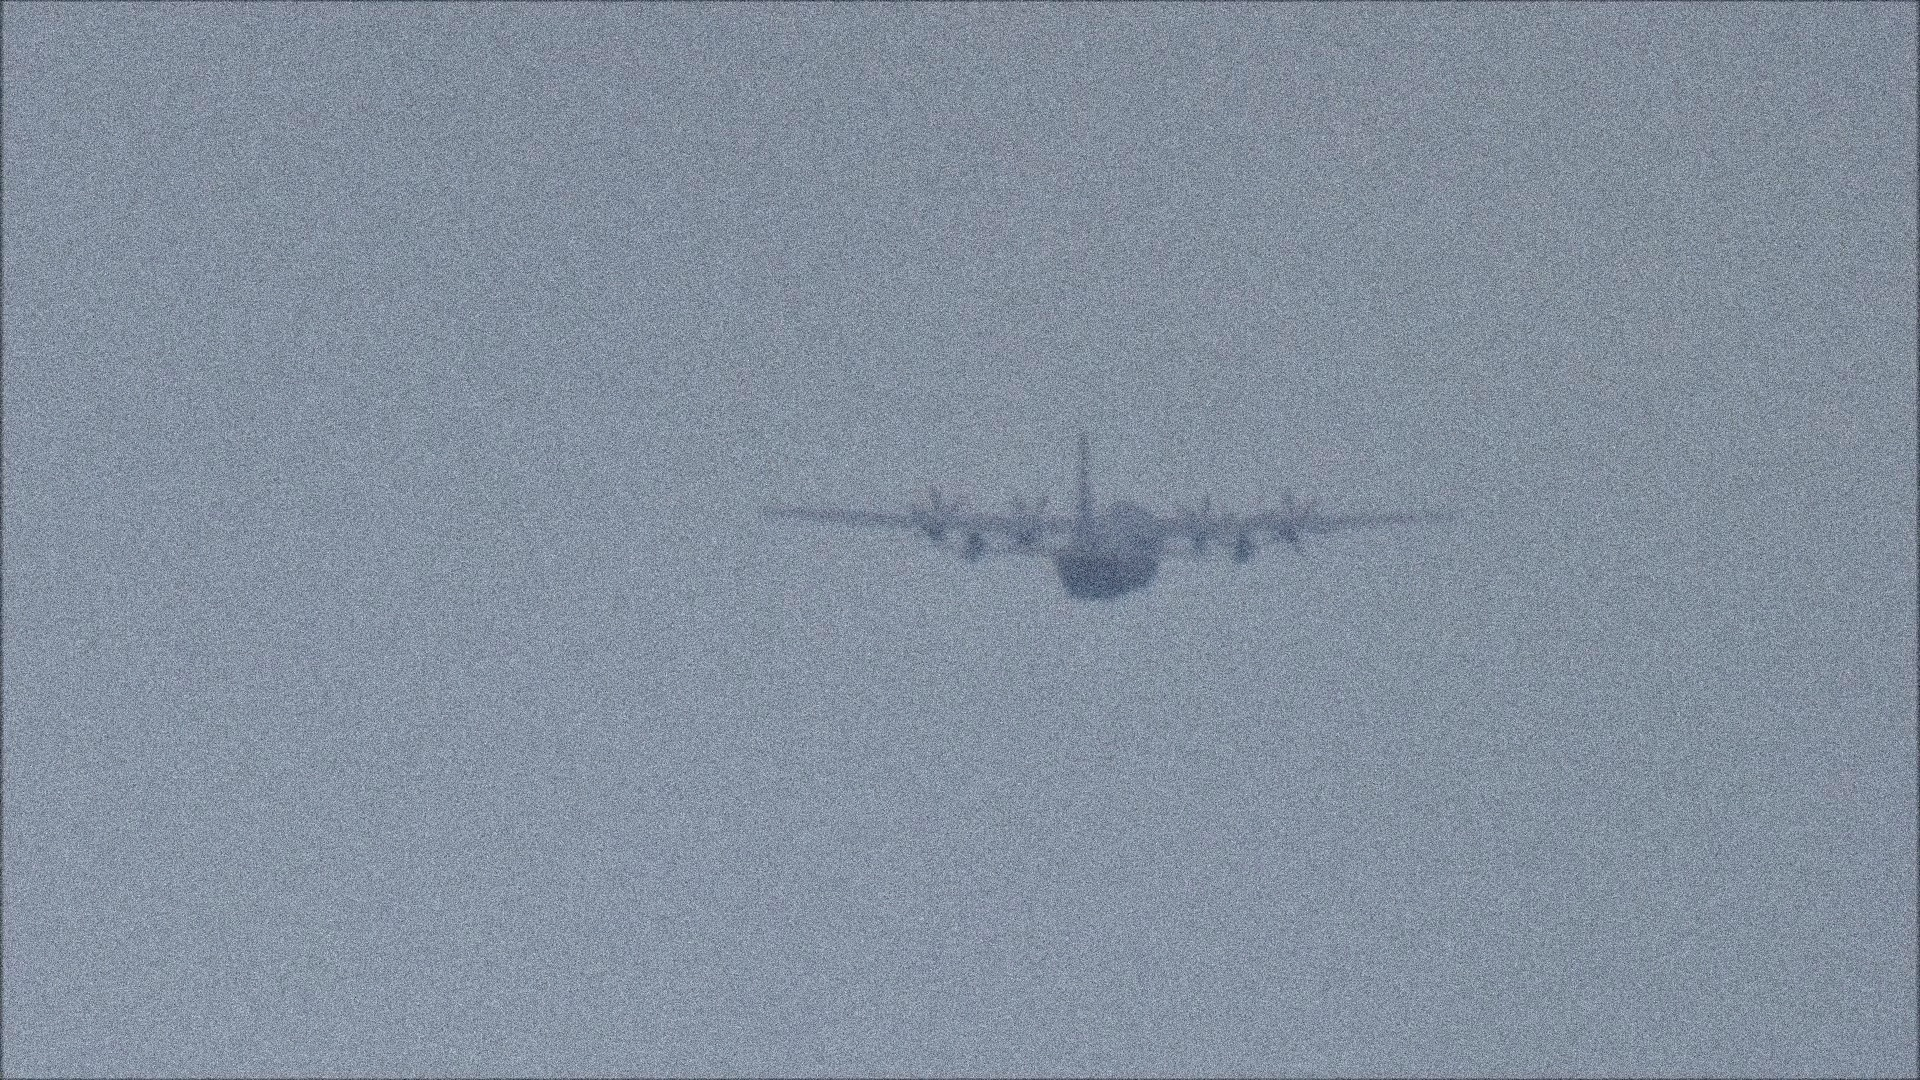Airplane: (756, 430, 1456, 605)
